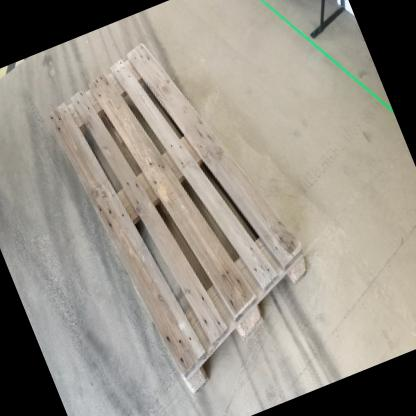BoxFace: (40, 33, 312, 401)
